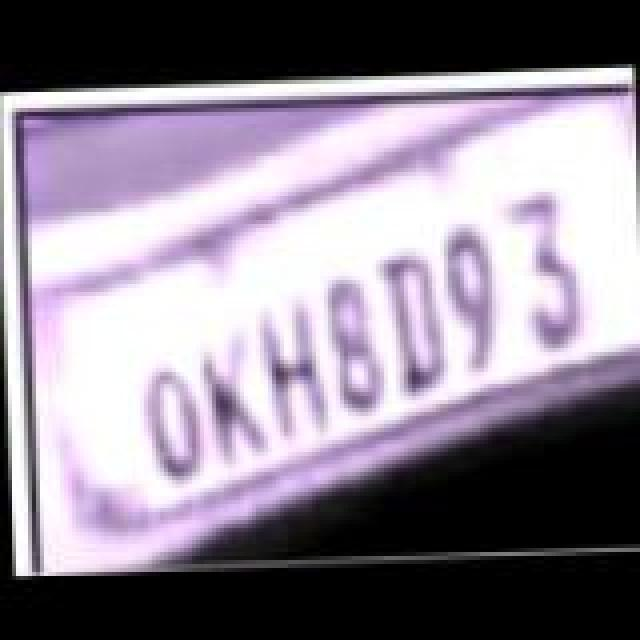3: (500, 180, 596, 348)
8: (310, 264, 398, 416)
9: (428, 218, 520, 374)
D: (366, 240, 462, 396)
H: (246, 292, 338, 444)
K: (188, 324, 276, 464)
O: (130, 360, 210, 484)
